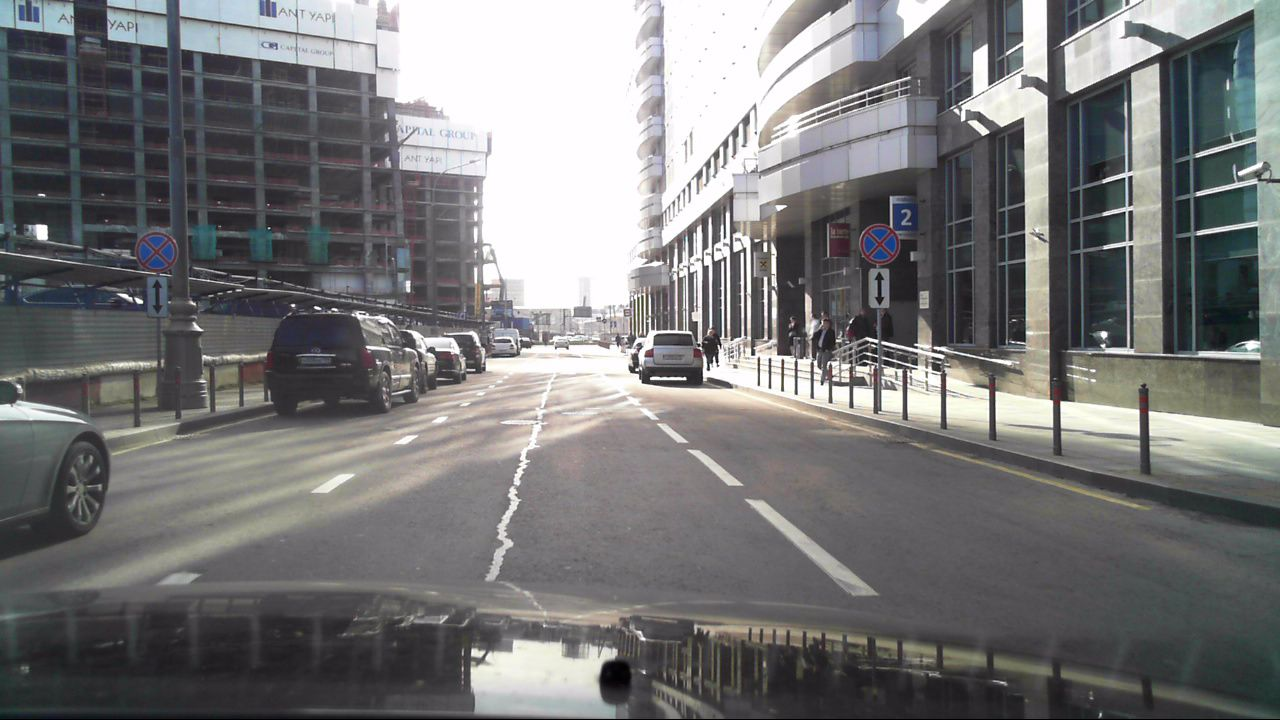No Parking: (857, 223, 900, 265)
